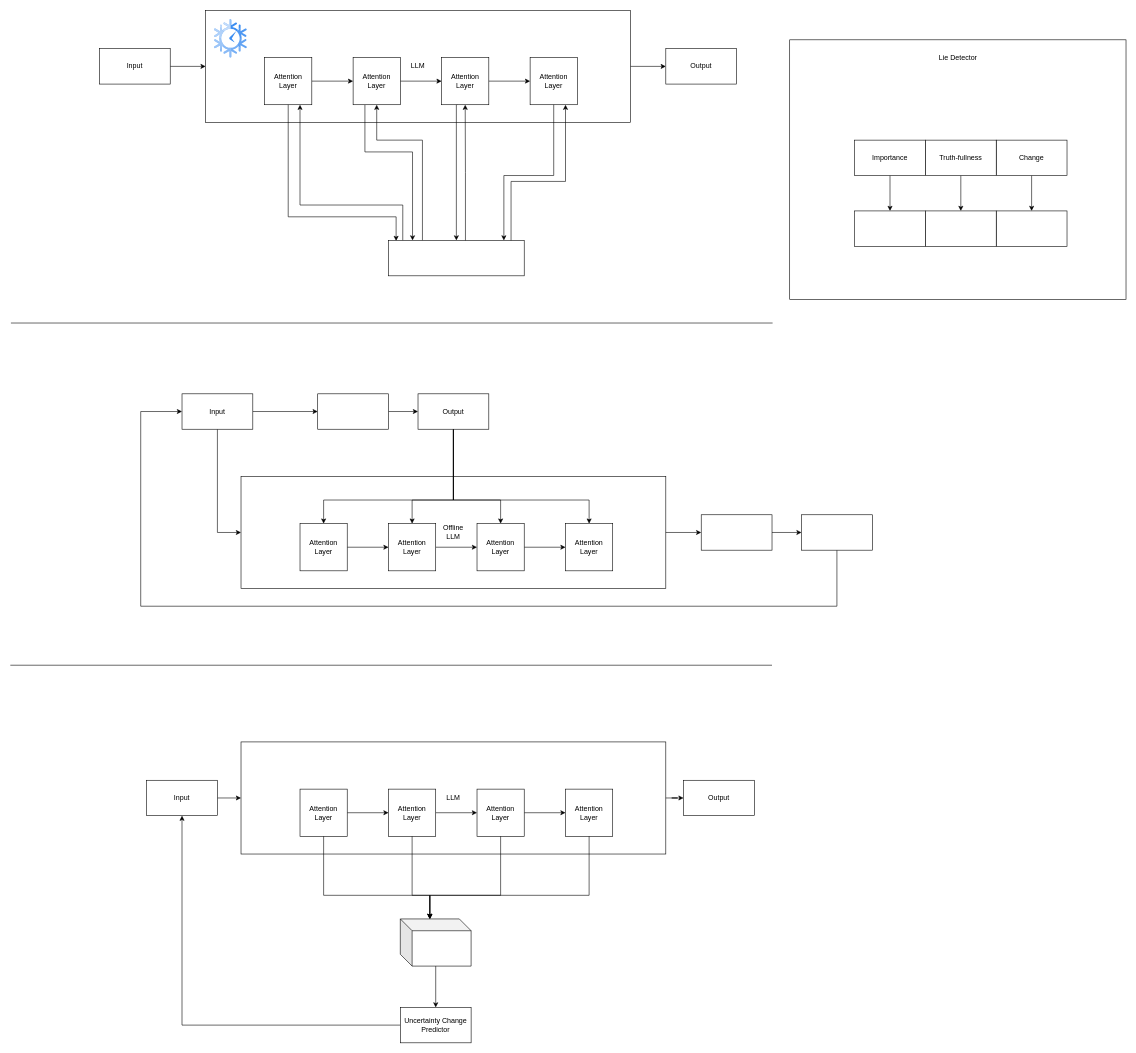
The diagram is 1136 pixels wide and 1053 high, and some of its shapes have lost their labels. Here are the shapes that lost their labels. From the top down, the box of each, then its label:
(854, 210, 925, 246): KeyBERT (?) BERTScore (?)
(925, 210, 996, 246): Contrastive Learning
(996, 210, 1067, 246): KL-Divergence JS-Divergence Gradient
(388, 240, 524, 276): Lie-Detector
(317, 393, 389, 429): Black-box LLM
(701, 514, 772, 550): Last Layer Probabilities
(801, 514, 872, 550): Hallucination Detection
